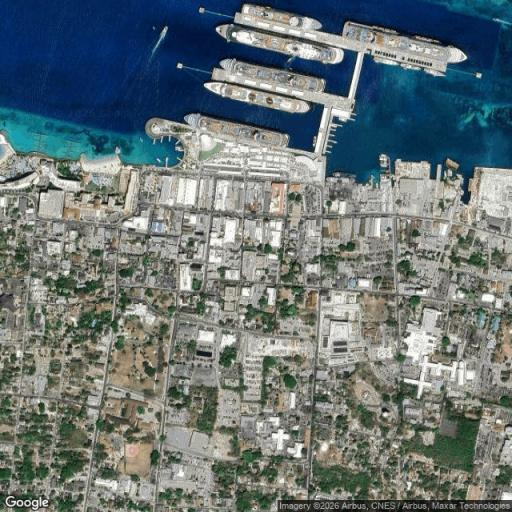ship: (344, 20, 470, 63), (214, 24, 345, 65), (219, 58, 326, 94), (182, 114, 290, 148), (204, 82, 311, 113), (240, 5, 324, 30), (160, 26, 167, 37)
